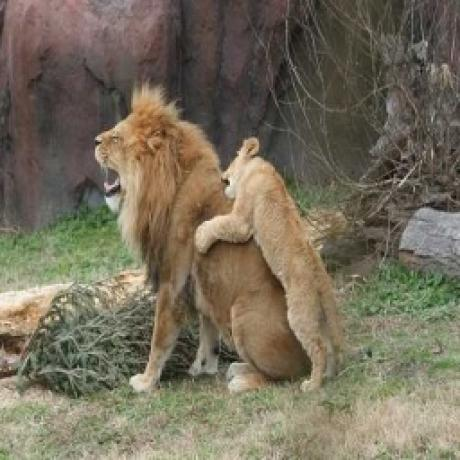Lion: (92, 87, 308, 390), (194, 133, 346, 394)
